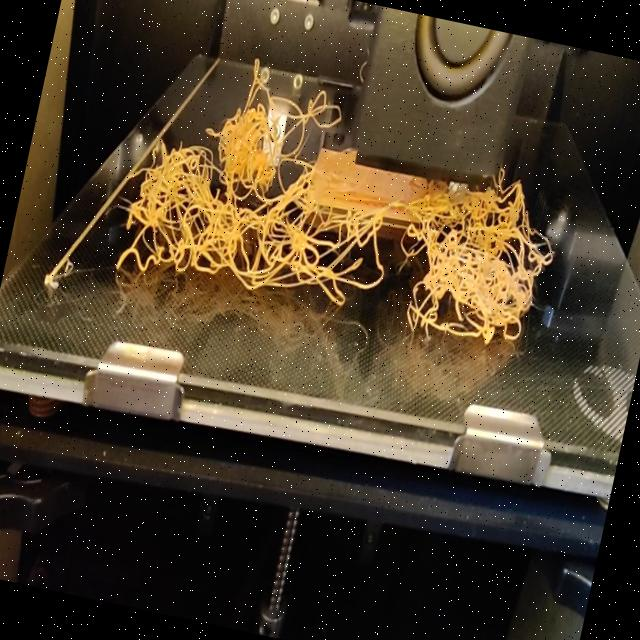spaghetti: (101, 111, 568, 376), (208, 44, 351, 154)
